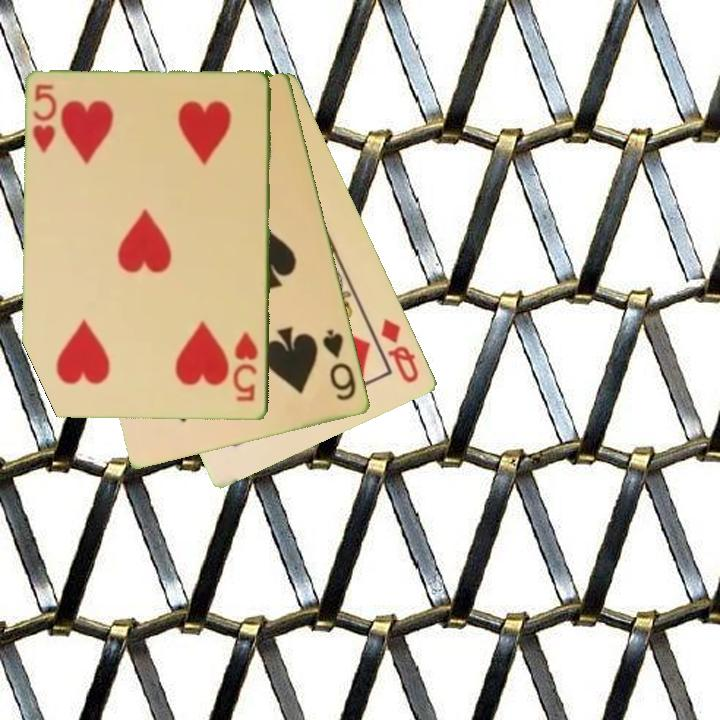5h: (230, 329, 262, 405), (29, 80, 60, 157)
6s: (319, 326, 360, 404)
Qd: (377, 315, 423, 387)
